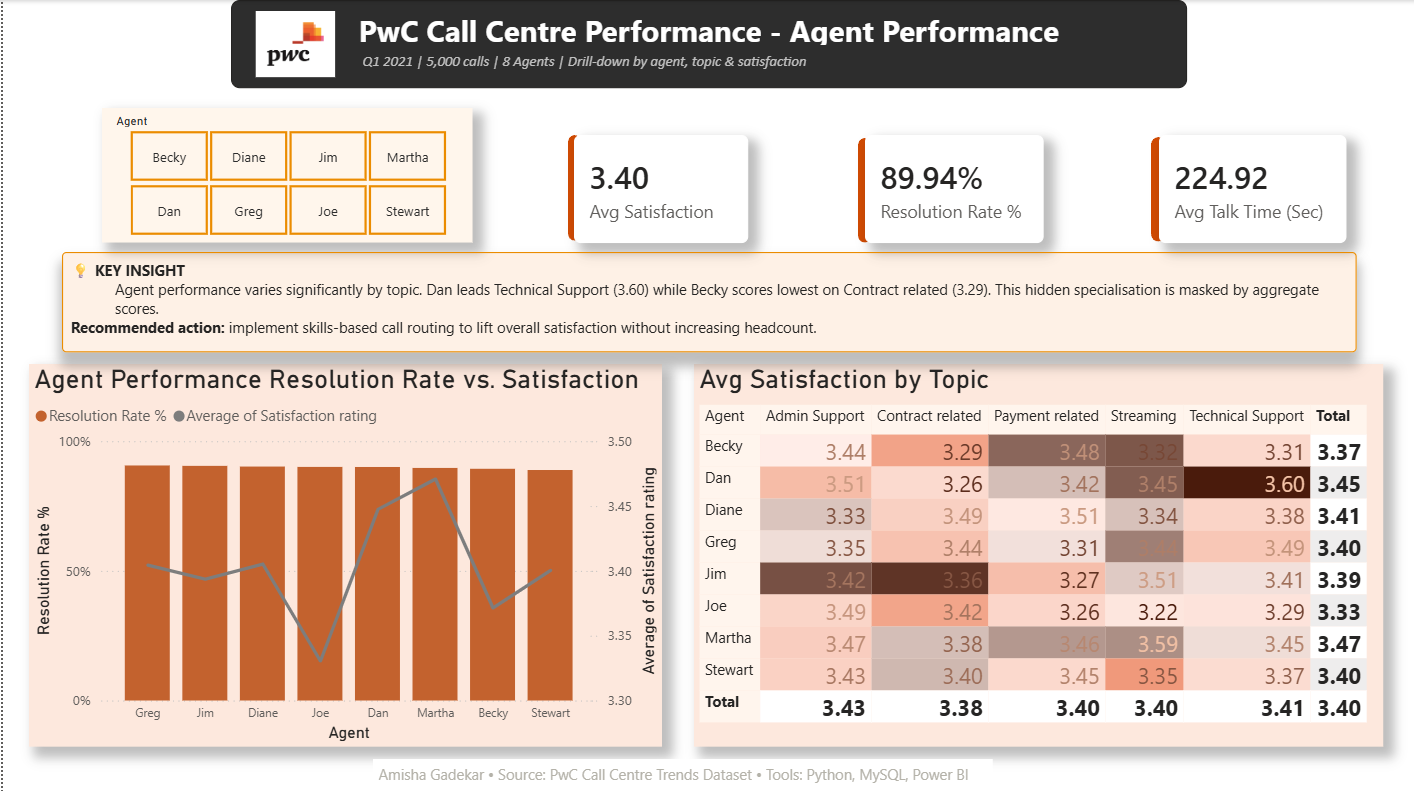

The page's visual inventory and layout, read from the dashboard file:
{"tool":"powerbi","page":{"name":"Agent Performance","canvas":[1280,720],"ordinal":1},"visuals":[{"type":"shape","box":[1041.4,124.2,13.1,94.9],"z":0},{"type":"shape","box":[775.8,125.3,12.1,94.9],"z":1000},{"type":"shape","box":[512.1,122.2,12.1,96],"z":2000},{"type":"slicer","fields":{"Values":["call_center_cleaned.Agent"]},"box":[89.9,98,336.4,122.2],"z":3000},{"type":"cardVisual","fields":{"Data":["Avg(call_center_cleaned.avg_talk_duration_sec)"]},"box":[1048.5,122.2,169.7,98],"z":4000},{"type":"cardVisual","fields":{"Data":["call_center_cleaned.Resolution Rate %"]},"box":[781.3,122.2,161.6,98],"z":5000},{"type":"cardVisual","fields":{"Data":["Avg(call_center_cleaned.Satisfaction rating)"]},"box":[518.2,122.2,157.6,98],"z":6000},{"type":"lineStackedColumnComboChart","title":"Agent Performance Resolution Rate vs. Satisfaction","fields":{"Category":["call_center_cleaned.Agent"],"Y":["call_center_cleaned.Resolution Rate %"],"Y2":["Avg(call_center_cleaned.Satisfaction rating)"]},"box":[23.2,330.3,573.7,347.5],"z":7000},{"type":"pivotTable","title":"Avg Satisfaction by Topic","fields":{"Rows":["call_center_cleaned.Agent"],"Columns":["call_center_cleaned.Topic"],"Values":["Avg(call_center_cleaned.Satisfaction rating)"]},"box":[626.3,330.3,625.3,347.5],"z":8000},{"type":"textbox","box":[335.4,688.7,561.6,31.3],"z":9000},{"type":"textbox","box":[207.1,0,866.7,79.8],"z":10000},{"type":"image","box":[222.2,10.1,85.9,59.6],"z":11000},{"type":"textbox","box":[321.2,40.4,453.5,30.3],"z":12000},{"type":"textbox","box":[53.5,228.3,1173.7,90.9],"z":13000}]}

Visuals, with their boxes in screenshot pixels (x1, y1, x2, y2), scaled from the page's 1280x720 canvas onto the 1414x791 screenshot:
shape: [x1=1150, y1=136, x2=1165, y2=241]
shape: [x1=857, y1=138, x2=870, y2=242]
shape: [x1=566, y1=134, x2=579, y2=240]
slicer - call_center_cleaned.Agent: [x1=99, y1=108, x2=471, y2=242]
cardVisual - Avg(call_center_cleaned.avg_talk_duration_sec): [x1=1158, y1=134, x2=1346, y2=242]
cardVisual - call_center_cleaned.Resolution Rate %: [x1=863, y1=134, x2=1042, y2=242]
cardVisual - Avg(call_center_cleaned.Satisfaction rating): [x1=572, y1=134, x2=747, y2=242]
"Agent Performance Resolution Rate vs. Satisfaction" lineStackedColumnComboChart: [x1=26, y1=363, x2=659, y2=745]
"Avg Satisfaction by Topic" pivotTable: [x1=692, y1=363, x2=1383, y2=745]
textbox: [x1=371, y1=757, x2=991, y2=790]
textbox: [x1=229, y1=0, x2=1186, y2=88]
image: [x1=245, y1=11, x2=340, y2=77]
textbox: [x1=355, y1=44, x2=856, y2=78]
textbox: [x1=59, y1=251, x2=1356, y2=351]
